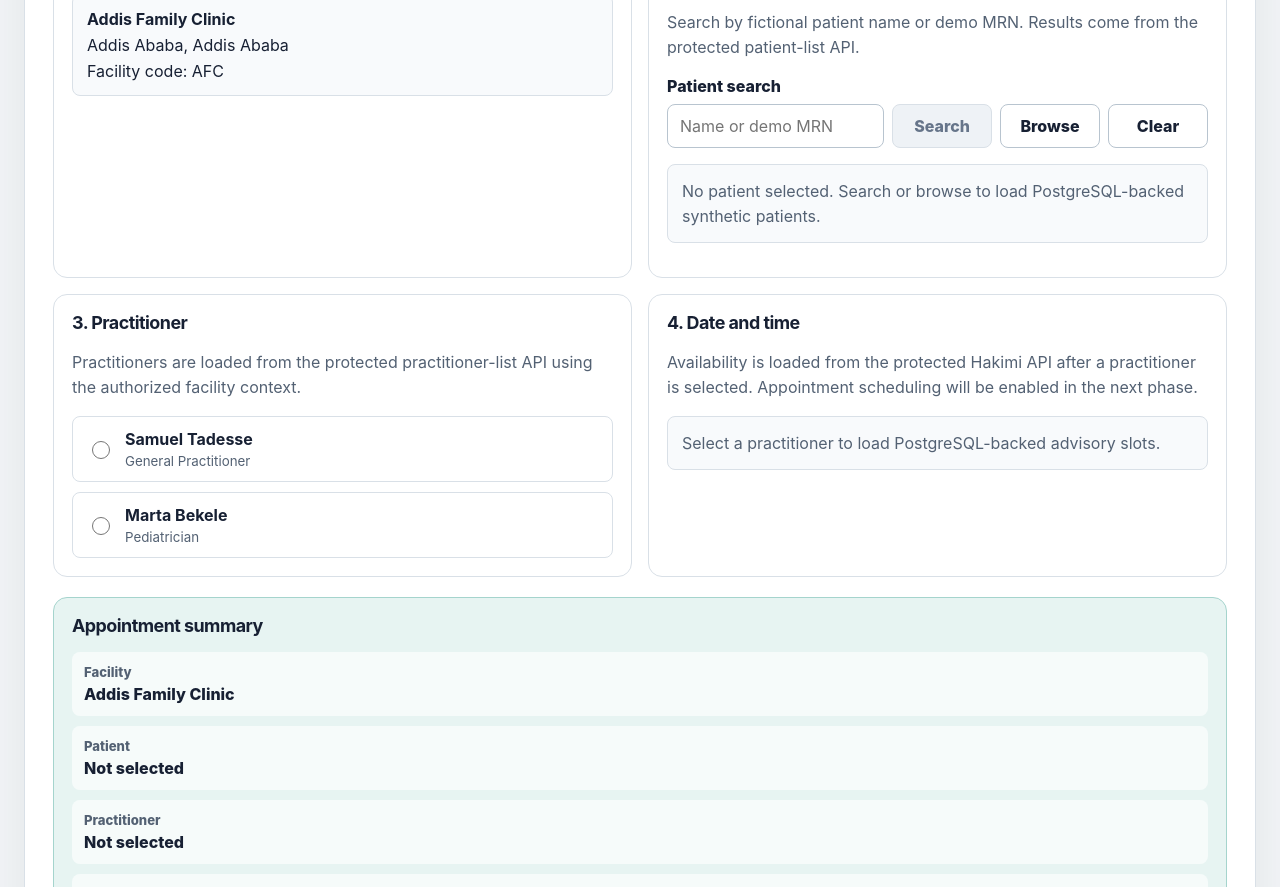
it: App workforce authentication shell › clears a selected slot when availability reload fails
(page scrolled)
Step 1. Click the radio button labelled "Samuel Tadesse General Practitioner" → (101, 450), box [92, 441, 110, 459]
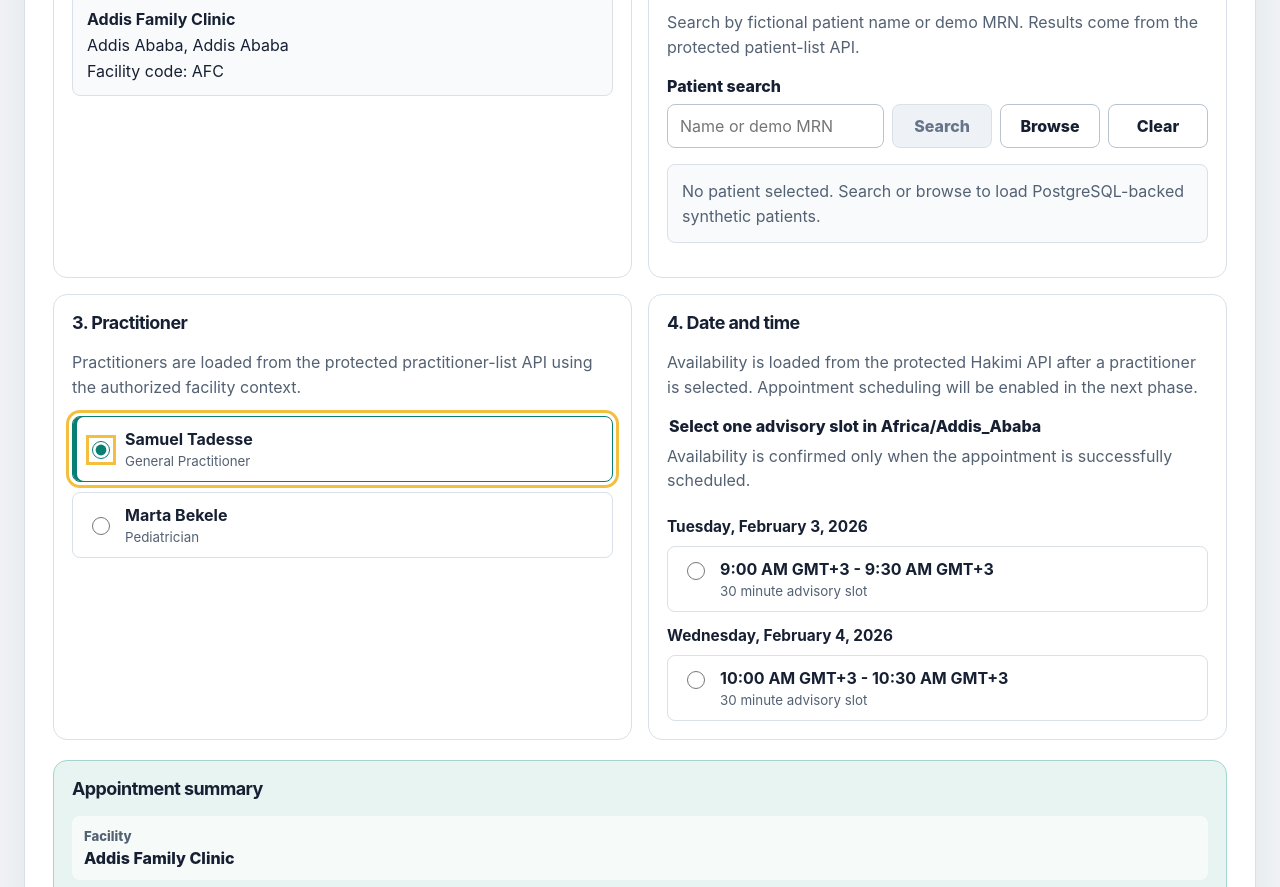
Step 2. Click the radio button labelled "9:00 AM GMT+3 - 9:30 AM GMT+3 30 minute advisory slot" → (696, 571), box [687, 562, 705, 580]
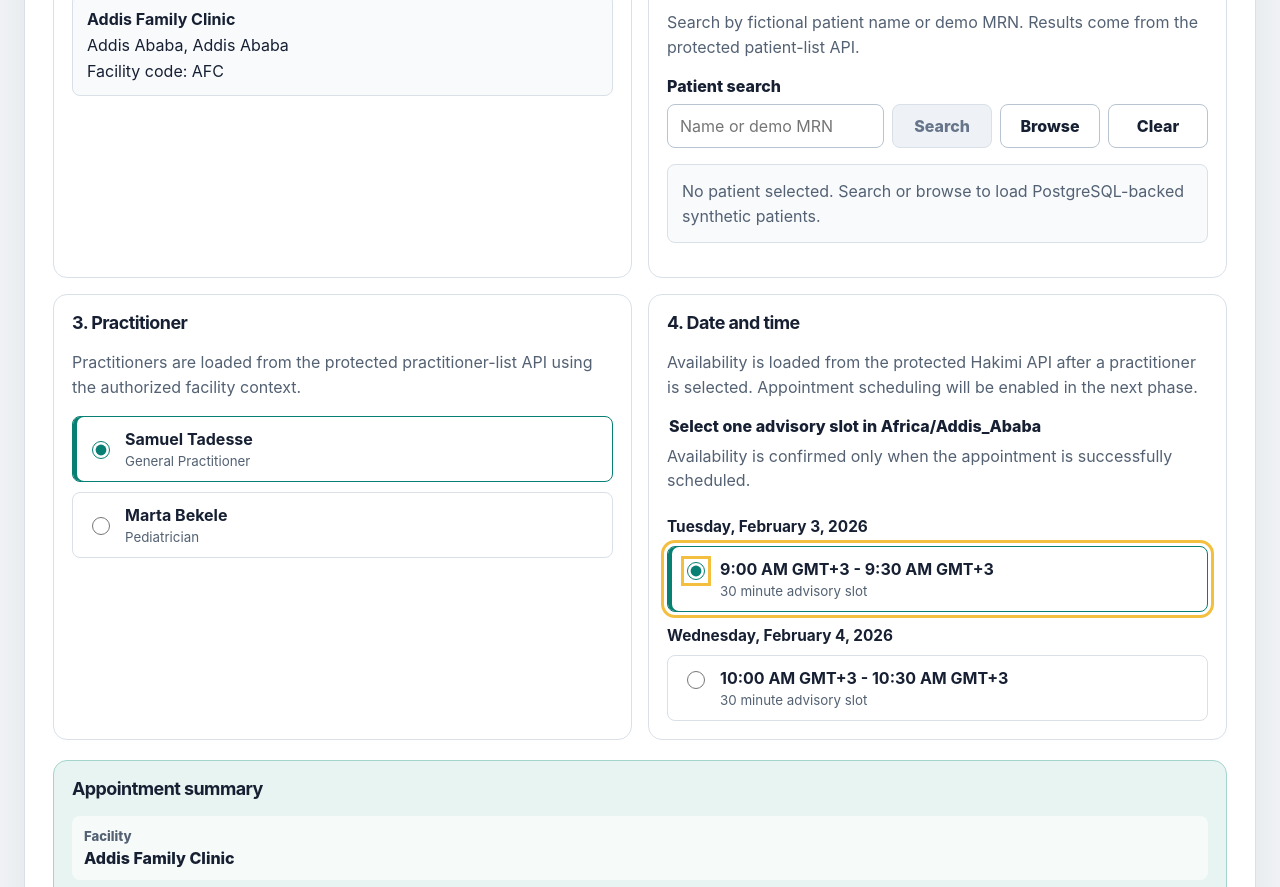
Expected: the radio button labelled "9:00 AM GMT+3 - 9:30 AM GMT+3 30 minute advisory slot" is checked, [687, 562, 705, 580]
Step 3. Click the radio button labelled "Marta Bekele Pediatrician" → (101, 526), box [92, 517, 110, 535]
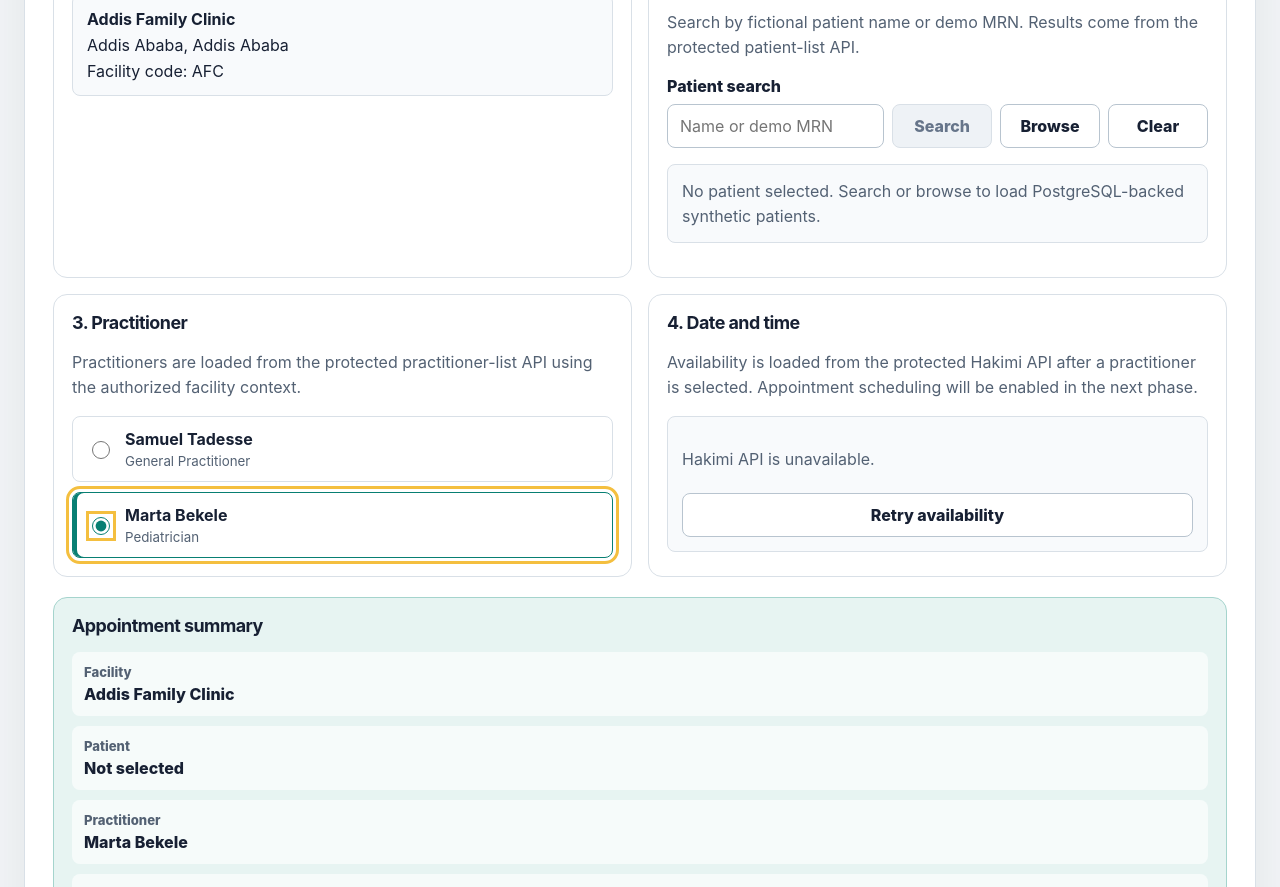
Expected: the message shows "Hakimi API is unavailable.", [682, 448, 875, 468]
